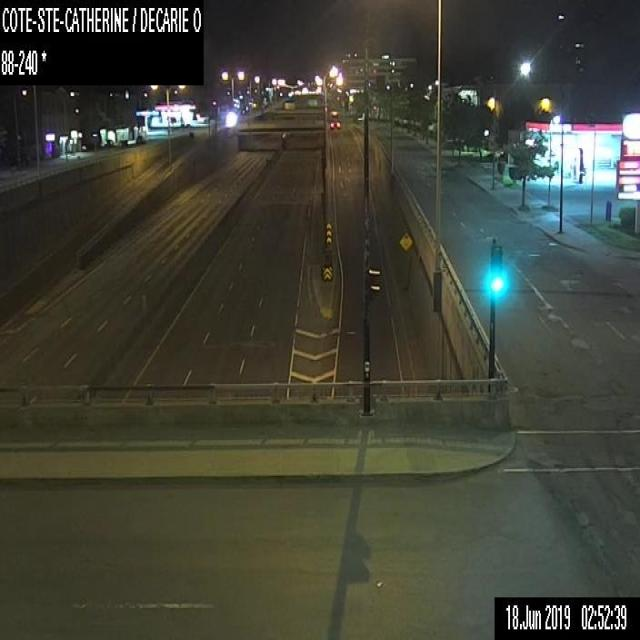vehicle: (328, 110, 341, 129)
